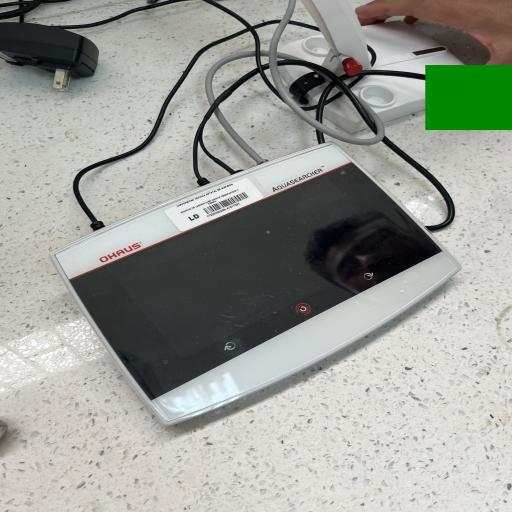Phmetro_Ohaus: (36, 132, 471, 434)
